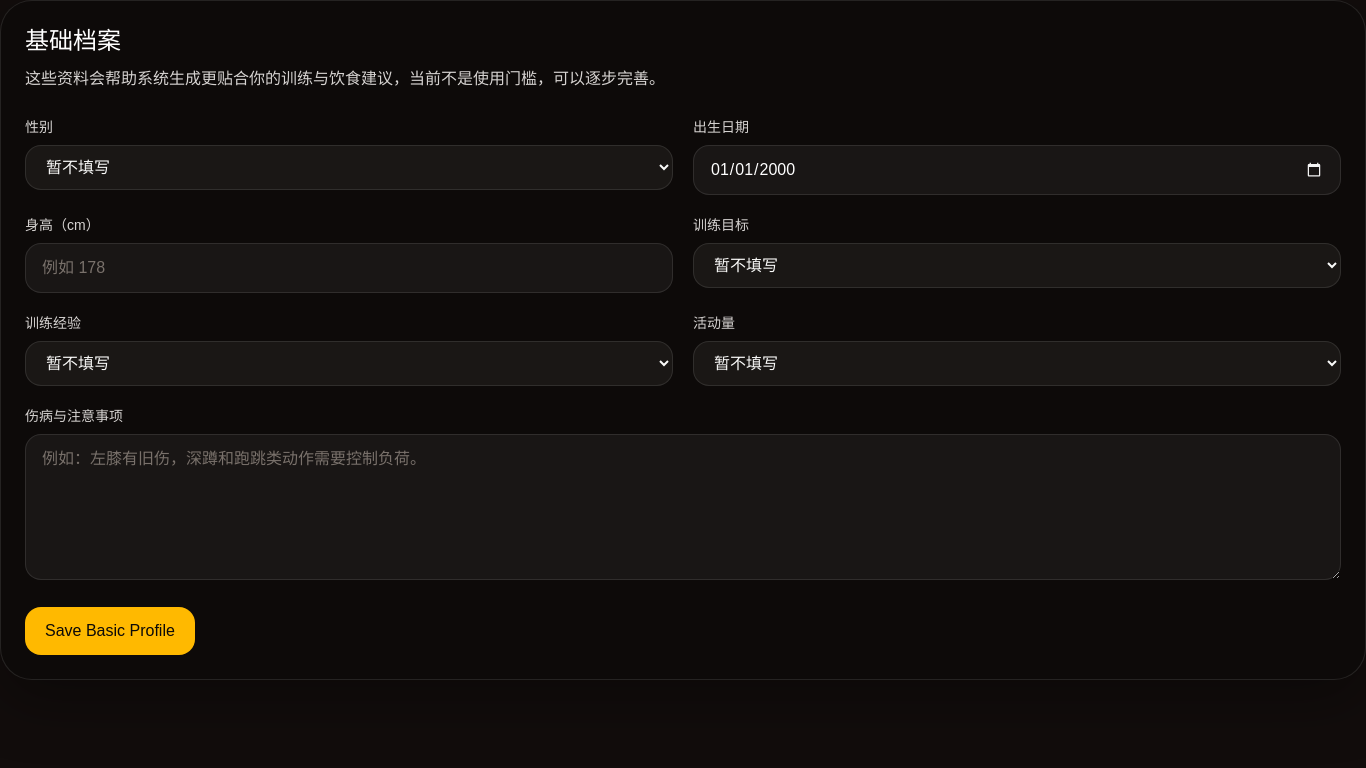
BasicProfileForm › submits the filled basic profile payload
The image size is (1366, 768).
Expected: the date field is shown, [693,145,1341,195]
Expected: the number field with placeholder "例如 178" is shown, [25,243,673,293]
Select "男" in the dropdown below "性别" at (349, 168), box [25,145,673,190]
Type "1998-08-01" into the date field at (1017, 170), box [693,145,1341,195]
Type "178" into the number field with placeholder "例如 178" at (349, 268), box [25,243,673,293]
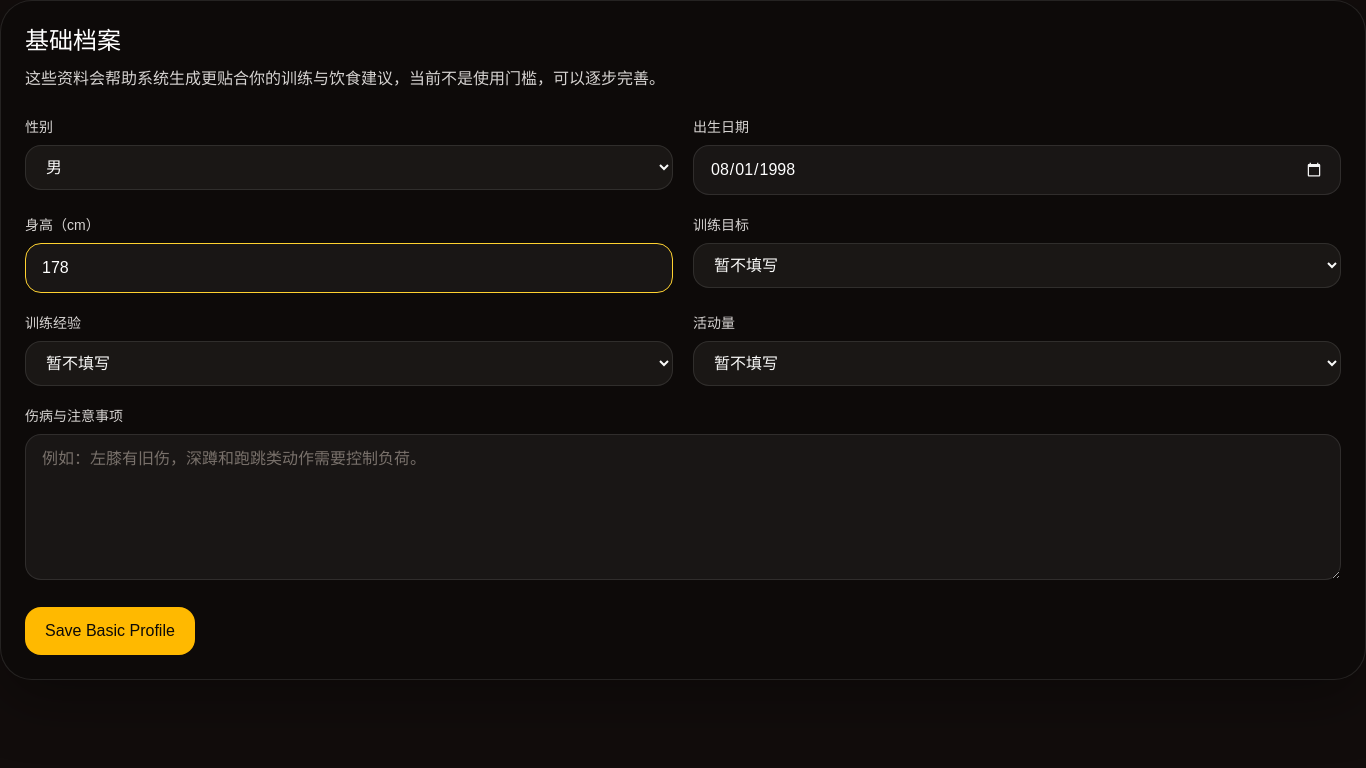
Select "增肌" in the dropdown below "训练目标" at (1017, 266), box [693,243,1341,288]
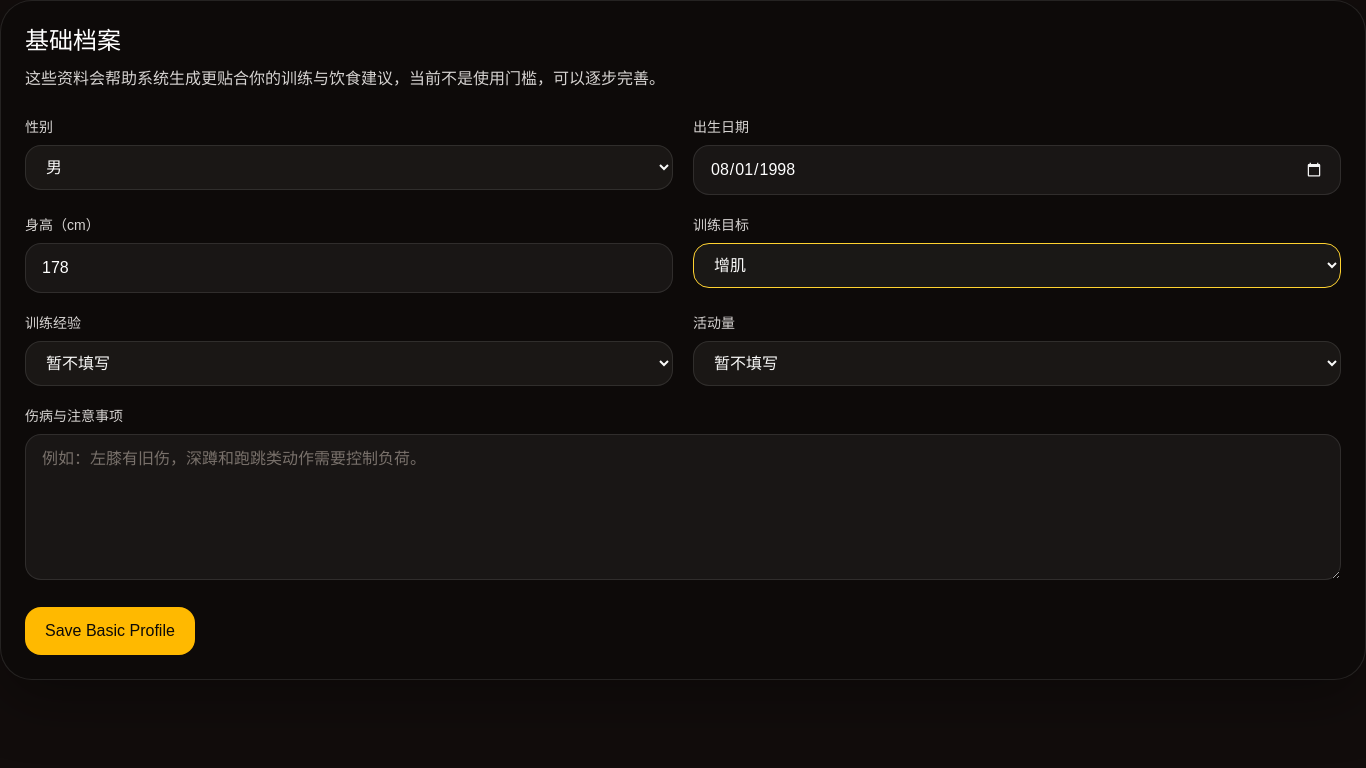
Select "有经验" in the dropdown below "训练经验" at (349, 364), box [25,341,673,386]
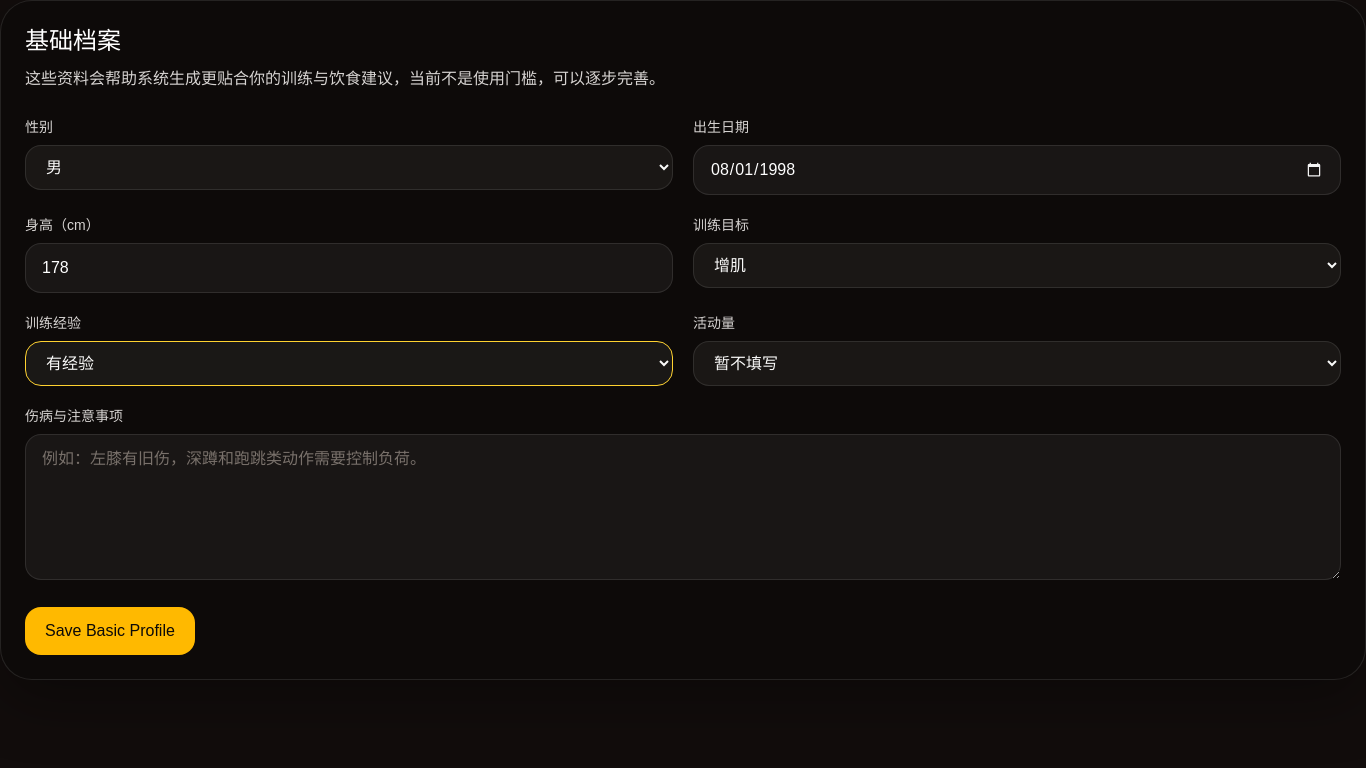
Select "中度" in the dropdown below "活动量" at (1017, 364), box [693,341,1341,386]
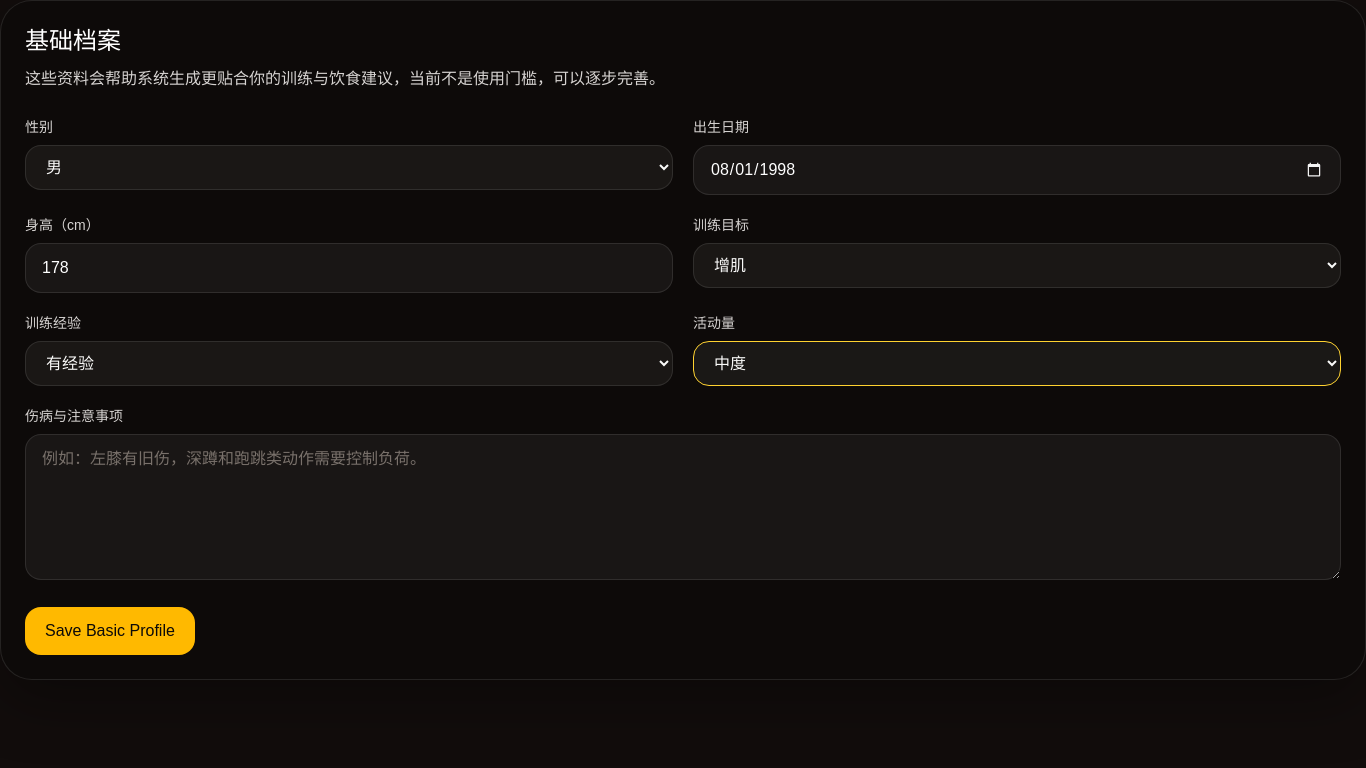
Type "Left shoulder discomfort" into the text box with placeholder "例如：左膝有旧伤，深蹲和跑跳类动作需要控制负荷。" at (683, 507), box [25,434,1341,580]
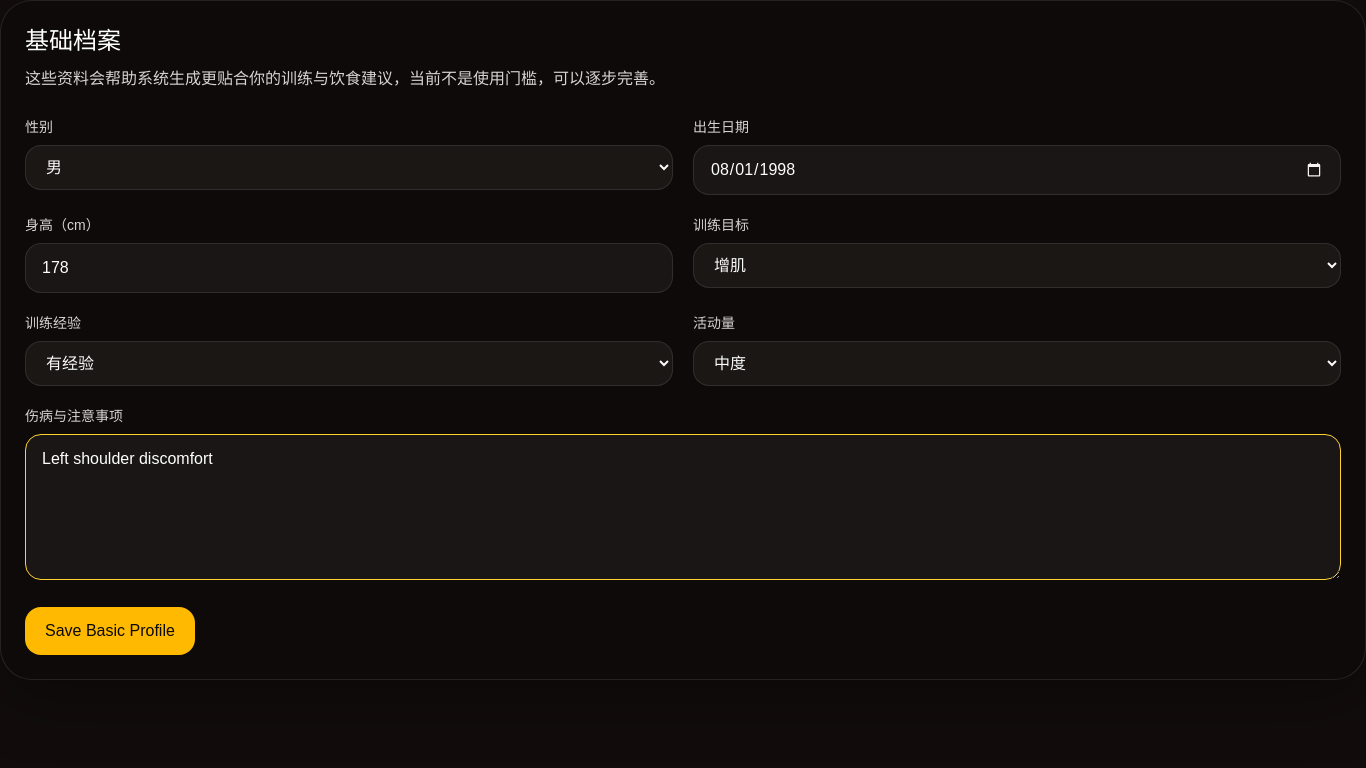
Click the button "Save Basic Profile" at (110, 631), box [25,607,195,655]
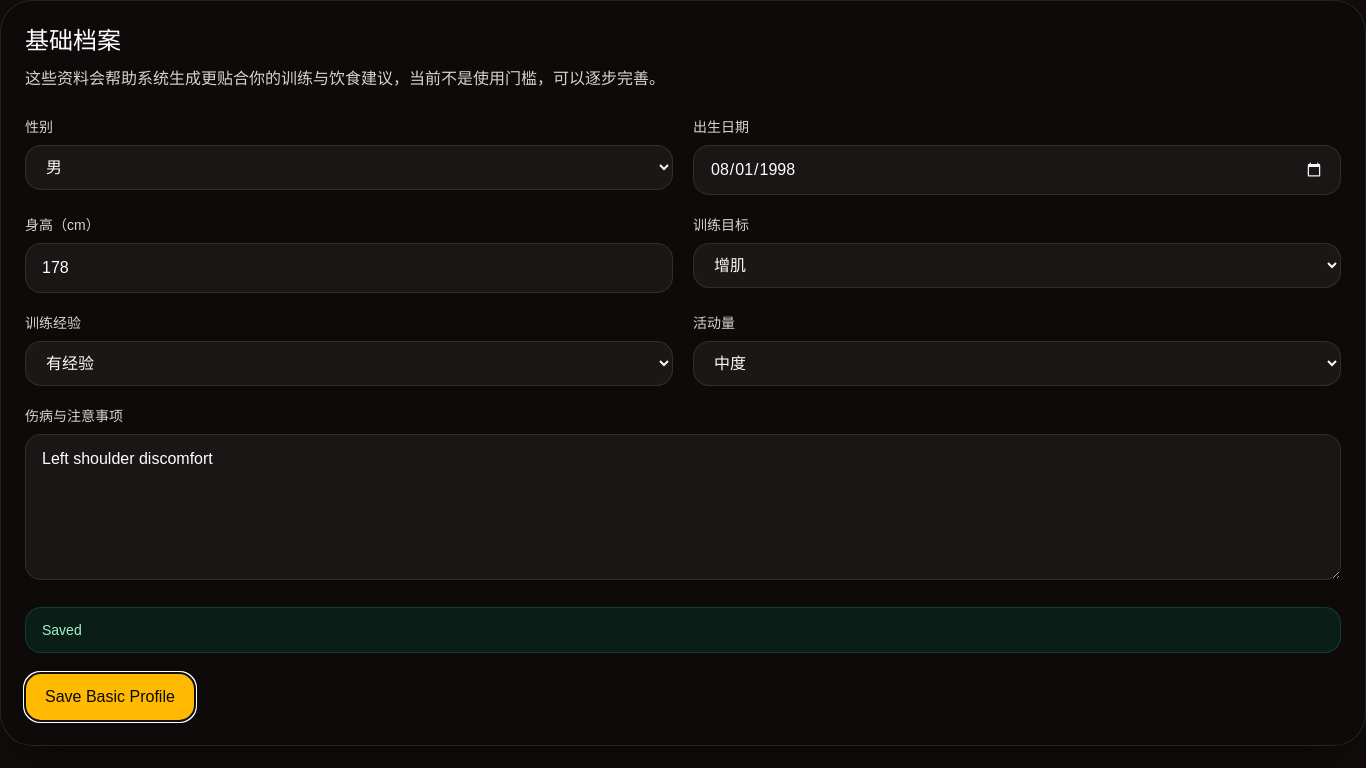
Now the text "Saved" is shown, box [25,607,1341,653]
